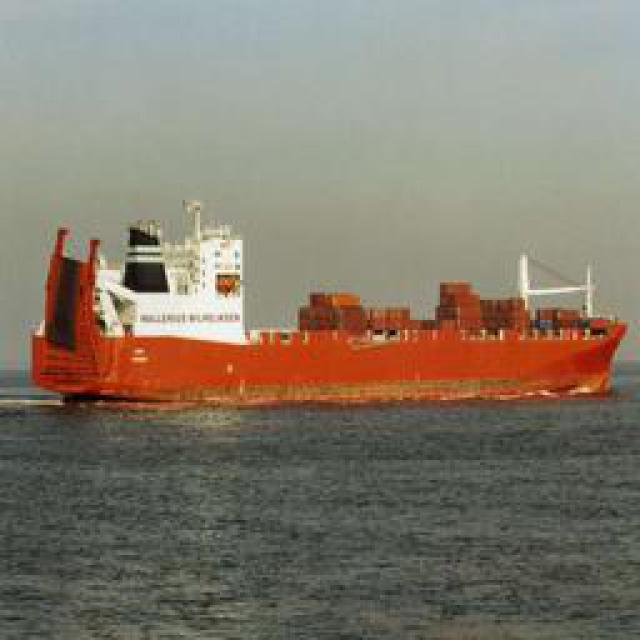Ship: (22, 203, 625, 411)
